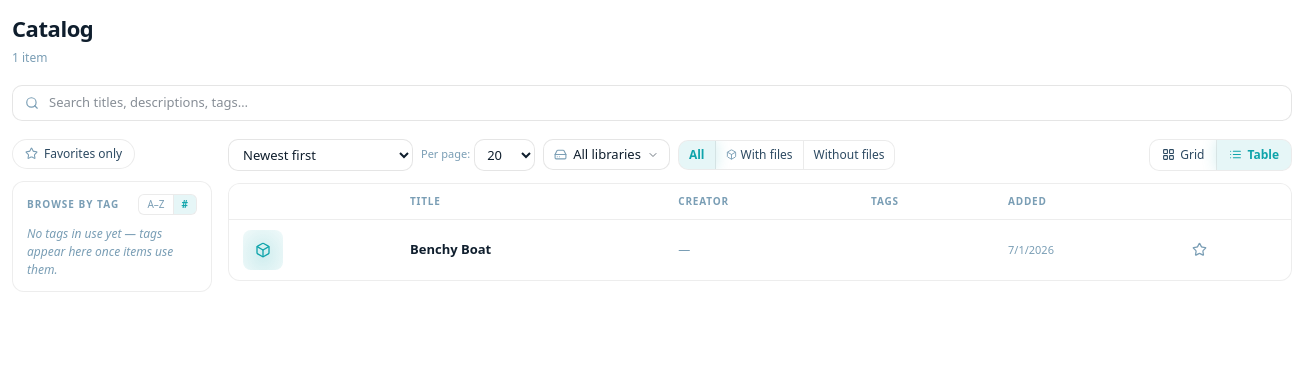
Test case: CatalogPage › lists enabled libraries and re-queries listItems when one is selected
The width and height of the screenshot is (1304, 384).
Click the button titled "Filter by library": [606, 155] box 543,139 -> 670,170
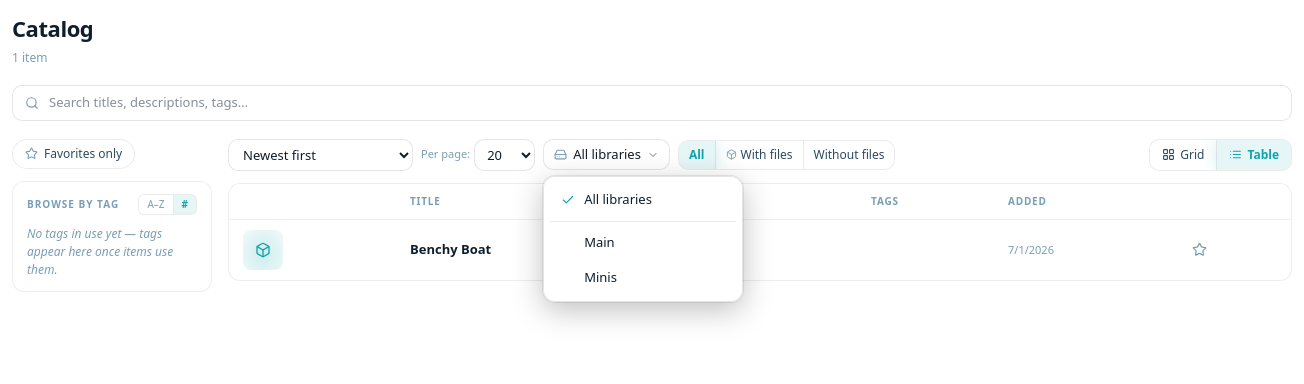
Click the menu item "Minis": [643, 278] box 550,261 -> 736,295
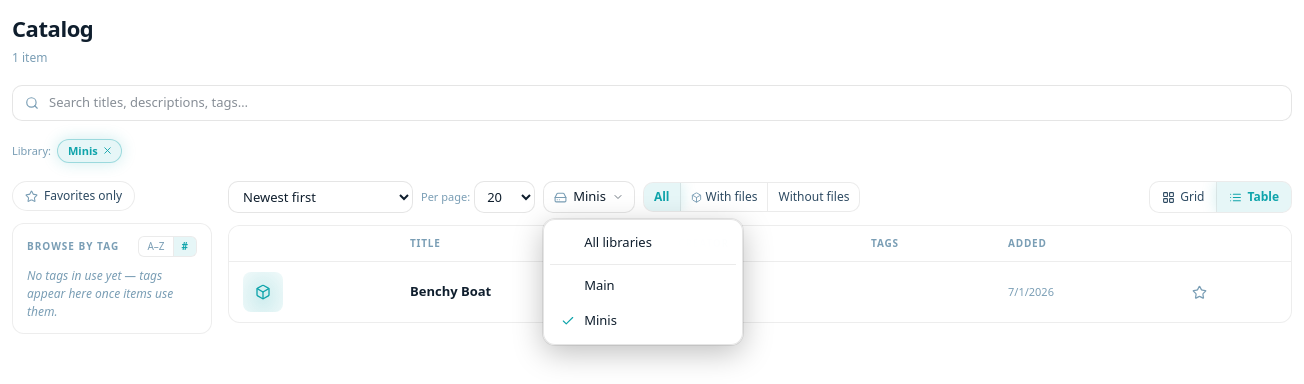
Expected: the text "Library:" is shown, 12,142 -> 51,159
